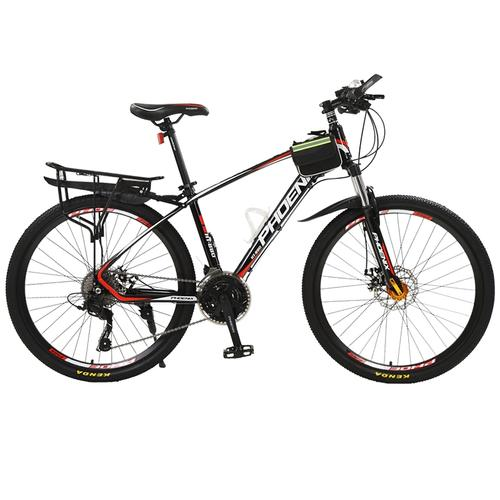单车: (5, 71, 497, 394)
